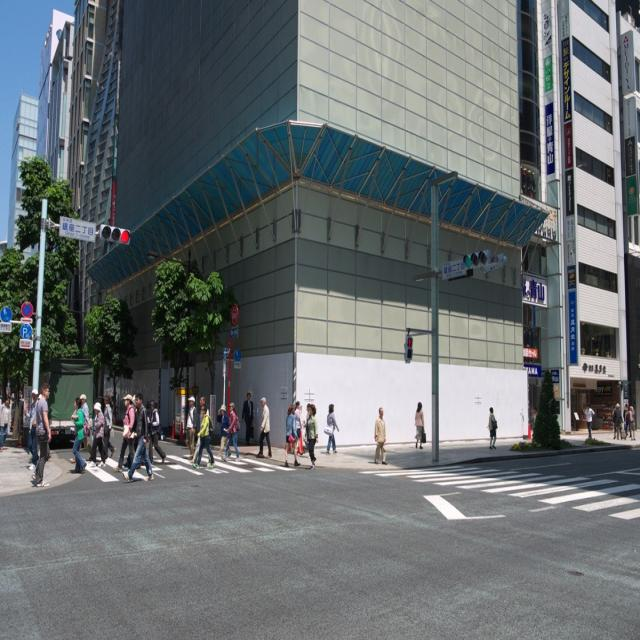body: (61, 452, 216, 484), (122, 392, 154, 483), (31, 381, 52, 488), (112, 394, 138, 473), (68, 393, 94, 465), (187, 394, 212, 468), (192, 405, 217, 470), (23, 388, 41, 471), (70, 396, 88, 474), (147, 397, 167, 467), (87, 401, 107, 469), (284, 403, 302, 469), (221, 401, 240, 463), (36, 393, 52, 462), (256, 396, 273, 459), (102, 392, 117, 460), (322, 402, 340, 455), (306, 402, 319, 471), (215, 403, 230, 460), (185, 396, 198, 461), (374, 407, 388, 466), (0, 392, 12, 452), (241, 391, 254, 446), (613, 402, 631, 440), (414, 401, 427, 450), (294, 400, 303, 456), (130, 393, 154, 413), (612, 402, 624, 440), (488, 407, 498, 450), (584, 402, 595, 441), (628, 405, 636, 442), (304, 402, 311, 442), (530, 404, 538, 424)
